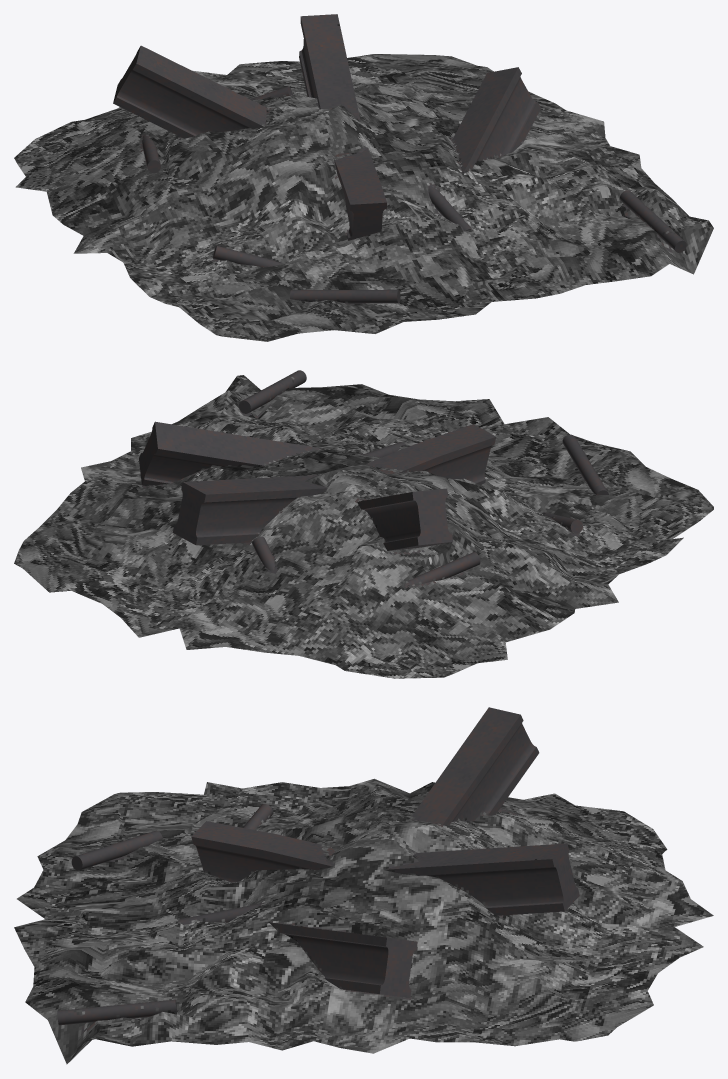
File: elev_crash_debris.fbx
The picture shows the model from 3 angles, top to bottom: view 1: azimuth 30°, elevation 25°; view 2: azimuth 150°, elevation 25°; view 3: azimuth 270°, elevation 25°; orthographic projection. The views are drawn at different scales.
Visible parts, largest first — view 1: elev_crash_debris; view 2: elev_crash_debris; view 3: elev_crash_debris.
Boxes of the visible parts, x1,y1,x2,y2 form: elev_crash_debris: (14, 14, 713, 341); elev_crash_debris: (14, 370, 713, 678); elev_crash_debris: (14, 707, 713, 1064).
Size of the model in its own units: 875 by 250 by 930.
Materials: 1 (1 with a texture image).
